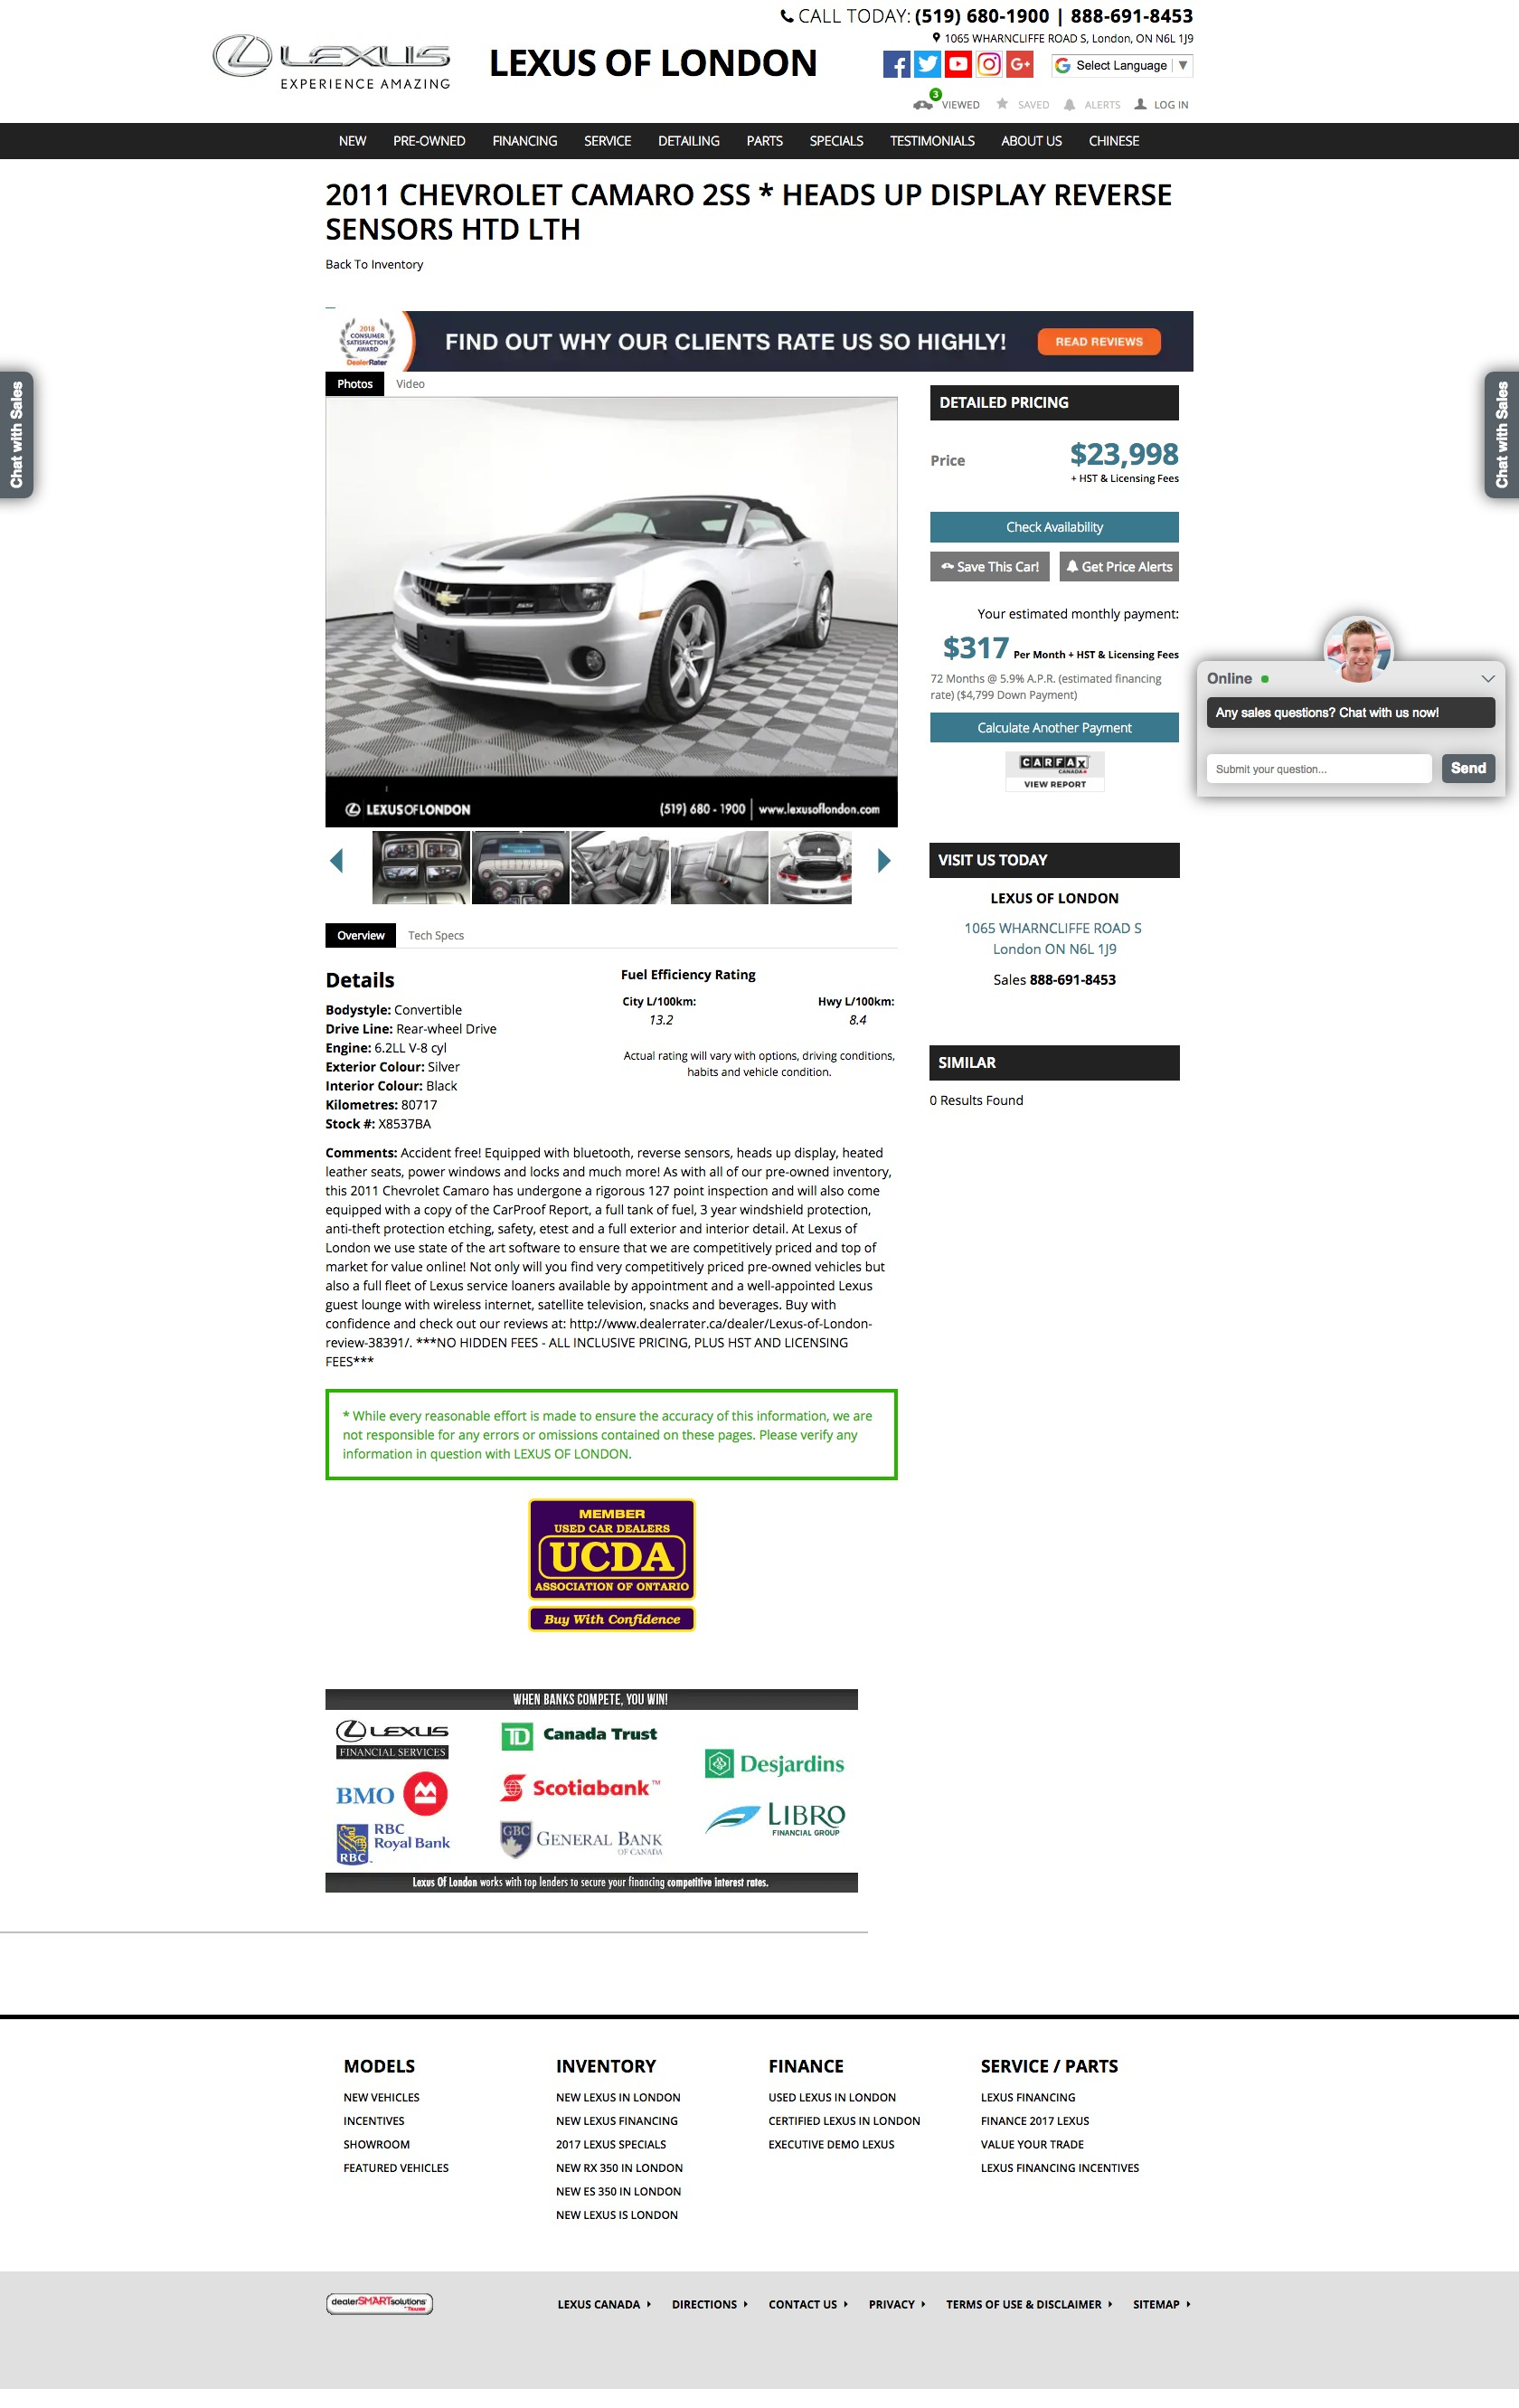car: (877, 847, 892, 875)
